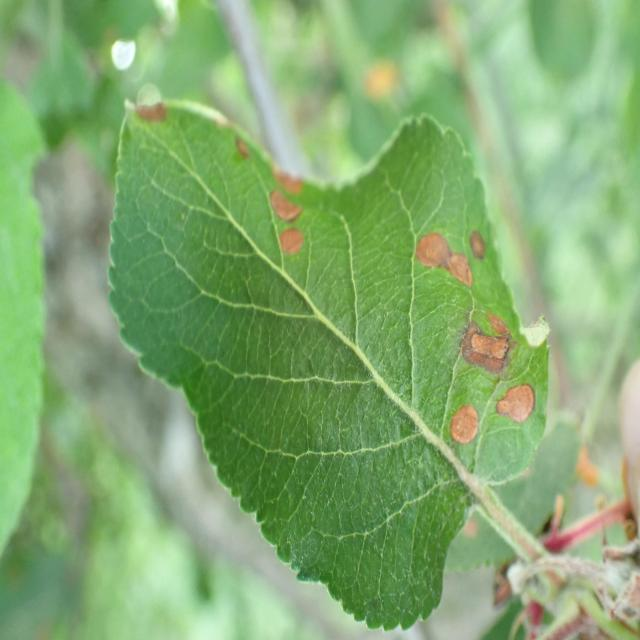Black Rot: (403, 216, 474, 296), (458, 304, 522, 384), (260, 190, 312, 280), (265, 147, 324, 204), (493, 381, 549, 441), (446, 397, 486, 466), (126, 94, 179, 145), (461, 218, 496, 270), (229, 119, 254, 173)
